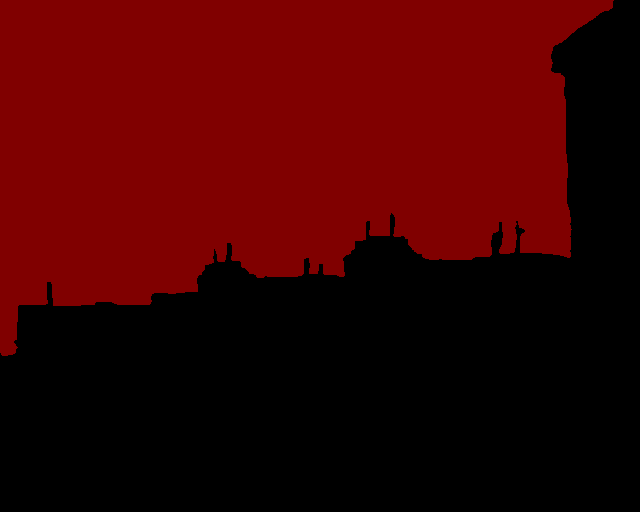Sky: (1, 1, 613, 355)
